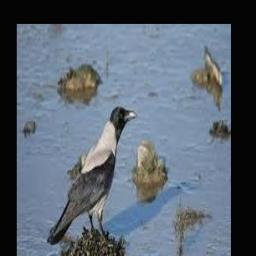Crow: (47, 106, 138, 246)
